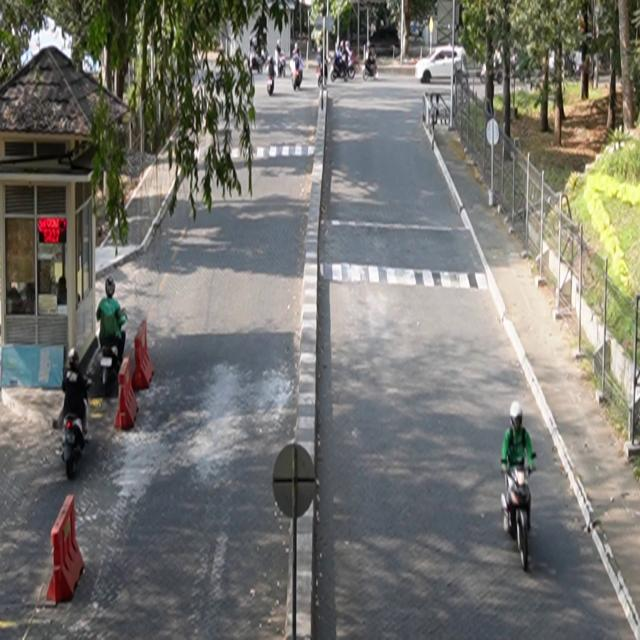car: (416, 45, 469, 84)
